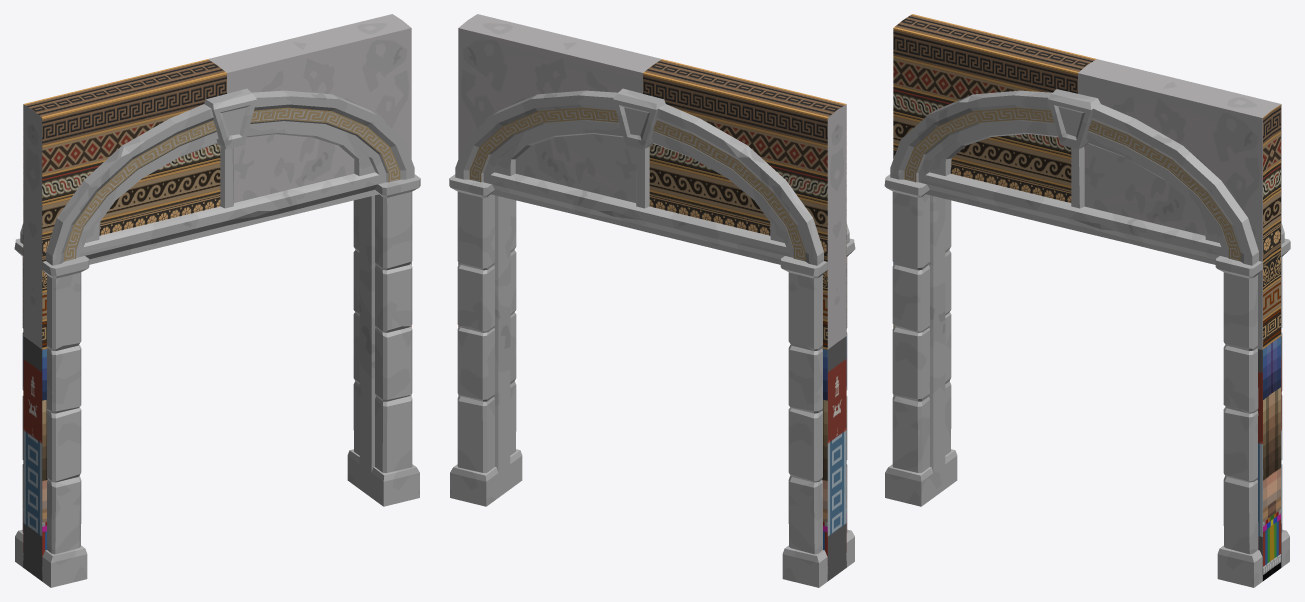
The model's file is ancient_SM_Bld_Wall_Door_Double_01.gltf.
The picture shows the model from 3 angles, left to right: view 1: azimuth 30°, elevation 25°; view 2: azimuth 150°, elevation 25°; view 3: azimuth 330°, elevation 25°; orthographic projection.
Visible parts, largest first — view 1: SM_Bld_Wall_Door_Double_01; view 2: SM_Bld_Wall_Door_Double_01; view 3: SM_Bld_Wall_Door_Double_01.
Part boxes in pixels (left/top/right/bottom): SM_Bld_Wall_Door_Double_01: left=14, top=14, right=420, bottom=587; SM_Bld_Wall_Door_Double_01: left=449, top=14, right=855, bottom=587; SM_Bld_Wall_Door_Double_01: left=884, top=14, right=1290, bottom=587.
Bounding box in the file's own units: 2.5 × 3.01 × 0.4684.
3 materials, 3 textured.
